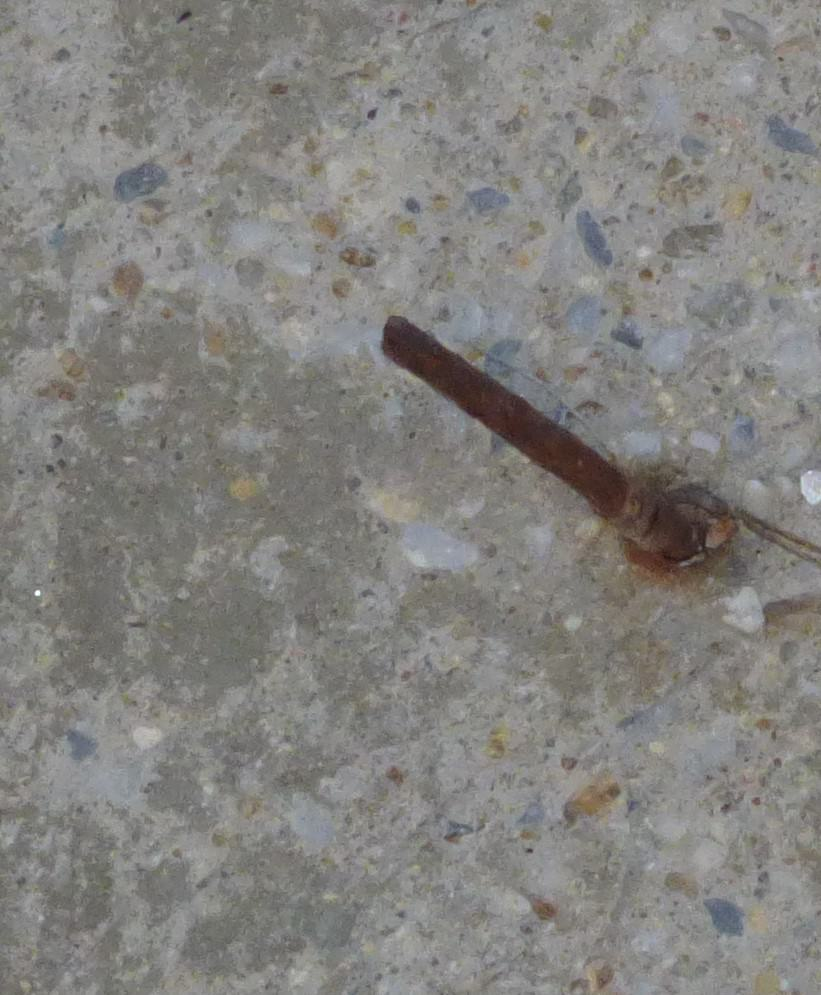Exposed reinforcement: (380, 314, 695, 556)
